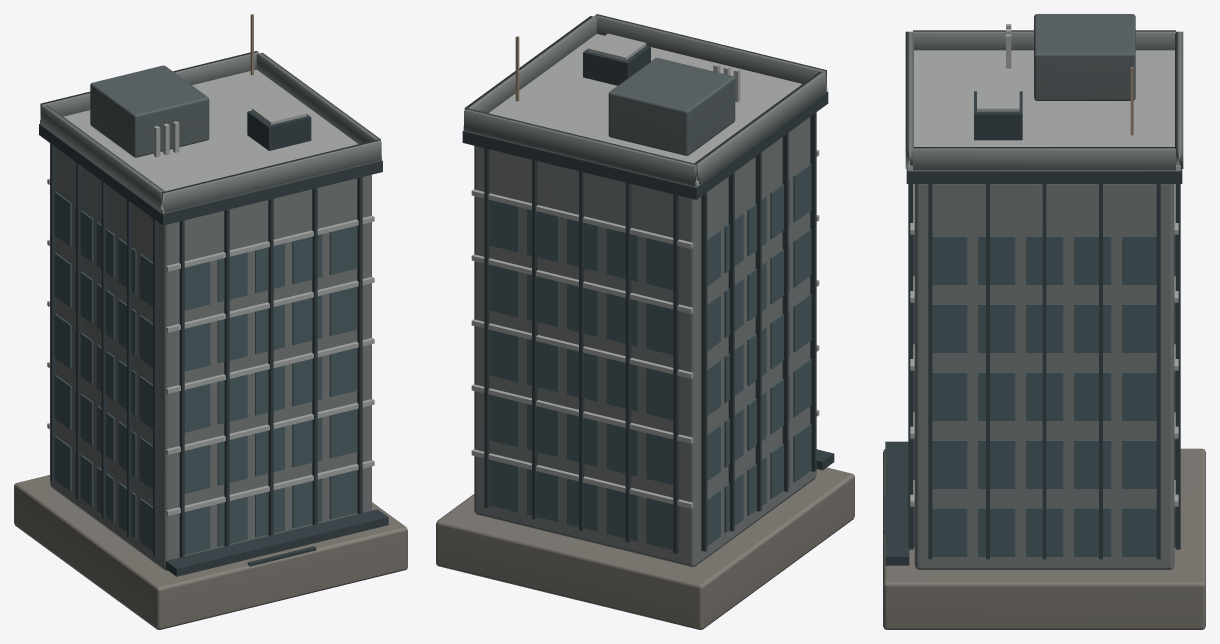
Rendered from commercial_tower_a_lod0.glb.
The picture shows the model from 3 angles, left to right: view 1: azimuth 30°, elevation 25°; view 2: azimuth 150°, elevation 25°; view 3: azimuth 270°, elevation 25°; orthographic projection. The views are drawn at different scales.
Visible parts, largest first — view 1: KIT_main_concrete, KIT_window_glass, KIT_dark_structural_metal, KIT_warm_podium, KIT_pale_edge_trim, KIT_roof_equipment; view 2: KIT_main_concrete, KIT_window_glass, KIT_dark_structural_metal, KIT_warm_podium, KIT_pale_edge_trim, KIT_roof_equipment; view 3: KIT_main_concrete, KIT_window_glass, KIT_warm_podium, KIT_dark_structural_metal, KIT_pale_edge_trim, KIT_roof_equipment.
Part boxes in pixels (box(x1,y1,x2,y2)): KIT_main_concrete: box(40, 51, 381, 570); KIT_window_glass: box(54, 192, 357, 554); KIT_dark_structural_metal: box(39, 110, 388, 576); KIT_warm_podium: box(14, 475, 407, 629); KIT_pale_edge_trim: box(40, 69, 381, 515); KIT_roof_equipment: box(90, 65, 209, 157); KIT_main_concrete: box(464, 14, 826, 566); KIT_window_glass: box(489, 164, 811, 549); KIT_dark_structural_metal: box(462, 45, 834, 553); KIT_warm_podium: box(436, 467, 854, 629); KIT_pale_edge_trim: box(463, 33, 827, 508); KIT_roof_equipment: box(608, 58, 735, 155); KIT_main_concrete: box(905, 30, 1183, 569); KIT_window_glass: box(913, 234, 1175, 556); KIT_warm_podium: box(883, 448, 1205, 629); KIT_dark_structural_metal: box(884, 91, 1182, 565); KIT_pale_edge_trim: box(908, 24, 1180, 506); KIT_roof_equipment: box(1034, 14, 1135, 100).
Size of the model in its own units: 14 by 25.8 by 14.
